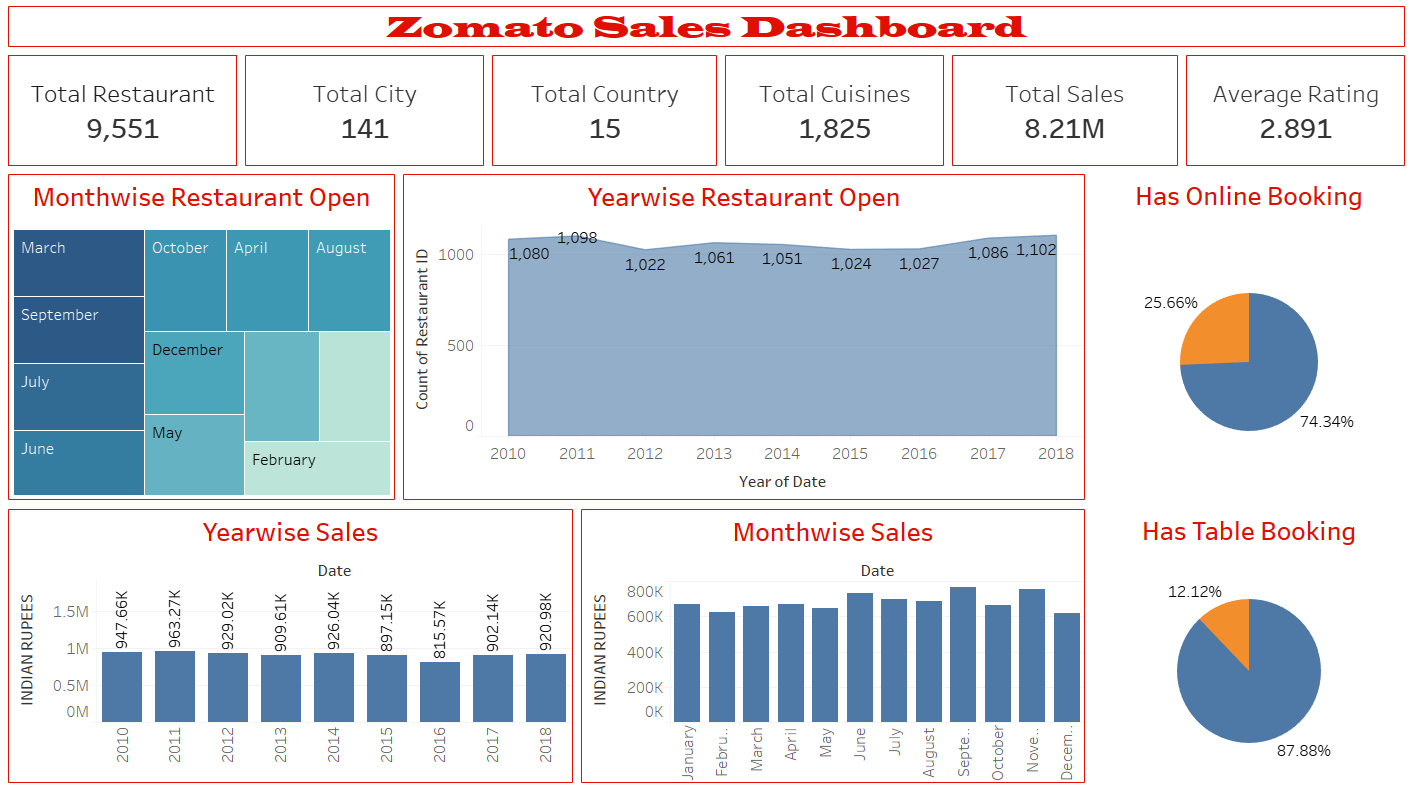

The dashboard page shown, as its layout file describes it:
{"tool":"tableau","page":{"name":"Dashboard 1","canvas":[1000,1000],"units":"permille","ordinal":0},"visuals":[{"type":"title","box":[4.8,10,847.9,61.2]},{"type":"legend","title":"5.Month wise Restaurent open ","param":"[federated.1qlz7s21g726ha1cg1ecy0mdl4ew].[cnt:RestaurantID:qk]","box":[852.7,10,142.4,91.1]},{"type":"worksheet","title":"Restaurant number","mark":"Automatic","box":[4.8,71.2,143,149]},{"type":"worksheet","title":"Total City","mark":"Automatic","box":[147.8,71.2,149.1,149]},{"type":"worksheet","title":"Total Country","mark":"Automatic","box":[296.9,71.2,140.6,149]},{"type":"worksheet","title":"Total Cuisines","mark":"Automatic","box":[437.5,71.2,137,149]},{"type":"worksheet","title":"Total Sales Indian Rupees","mark":"Automatic","box":[574.5,71.2,141.2,149]},{"type":"worksheet","title":"Avg Rating","mark":"Automatic","box":[715.7,71.2,137,149]},{"type":"legend","title":"8.Has Table Booking","param":"[federated.1qlz7s21g726ha1cg1ecy0mdl4ew].[none:Has_Table_booking:nk]","box":[852.7,101.1,142.4,89.9]},{"type":"legend","title":"8.Has Table Booking","param":"[federated.1qlz7s21g726ha1cg1ecy0mdl4ew].[pcto:cnt:RestaurantID:qk:1]","box":[852.7,191,142.4,63.7]},{"type":"worksheet","title":"5.Month wise Restaurent open ","mark":"Automatic","box":[4.8,220.2,238.5,417.2]},{"type":"worksheet","title":"5.Yearwise Restaurent open","mark":"Area","rows":["RestaurantID"],"cols":["Calculation_2610398947612286977"],"box":[243.4,220.2,416.2,417.2]},{"type":"worksheet","title":"9.Has Online Booking ","mark":"Pie","box":[659.6,220.2,193.1,417.2]},{"type":"legend","title":"9.Has Online Booking ","param":"[federated.1qlz7s21g726ha1cg1ecy0mdl4ew].[none:Has_Online_delivery:nk]","box":[852.7,254.7,142.4,89.9]},{"type":"legend","title":"9.Has Online Booking ","param":"[federated.1qlz7s21g726ha1cg1ecy0mdl4ew].[pcto:cnt:RestaurantID:qk:2]","box":[852.7,344.6,142.4,63.7]},{"type":"worksheet","title":"Yearwise Sales","mark":"Bar","rows":["Calculation_2610398947624546315"],"cols":["Calculation_2610398947612286977"],"box":[4.8,637.4,346,352.7]},{"type":"worksheet","title":"Month wise Sales ","mark":"Bar","rows":["Calculation_2610398947624546315"],"cols":["Calculation_2610398947612286977"],"box":[350.9,637.4,308.8,352.7]},{"type":"worksheet","title":"8.Has Table Booking","mark":"Pie","box":[659.6,637.4,193.1,352.7]}]}

Visuals, with their boxes on the dashboard's canvas, which has no fixed pixel size, in thousandths of its width and height (x1, y1, x2, y2). These are canvas units, not pixel positions in the 1412x790 screenshot, which may show the page scaled, cropped or inside an application window:
title: Rect(5, 10, 853, 71)
"5.Month wise Restaurent open " legend: Rect(853, 10, 995, 101)
"Restaurant number" worksheet: Rect(5, 71, 148, 220)
"Total City" worksheet: Rect(148, 71, 297, 220)
"Total Country" worksheet: Rect(297, 71, 438, 220)
"Total Cuisines" worksheet: Rect(438, 71, 574, 220)
"Total Sales Indian Rupees" worksheet: Rect(574, 71, 716, 220)
"Avg Rating" worksheet: Rect(716, 71, 853, 220)
"8.Has Table Booking" legend: Rect(853, 101, 995, 191)
"8.Has Table Booking" legend: Rect(853, 191, 995, 255)
"5.Month wise Restaurent open " worksheet: Rect(5, 220, 243, 637)
"5.Yearwise Restaurent open" worksheet (Area marks): Rect(243, 220, 660, 637)
"9.Has Online Booking " worksheet (Pie marks): Rect(660, 220, 853, 637)
"9.Has Online Booking " legend: Rect(853, 255, 995, 345)
"9.Has Online Booking " legend: Rect(853, 345, 995, 408)
"Yearwise Sales" worksheet (Bar marks): Rect(5, 637, 351, 990)
"Month wise Sales " worksheet (Bar marks): Rect(351, 637, 660, 990)
"8.Has Table Booking" worksheet (Pie marks): Rect(660, 637, 853, 990)
